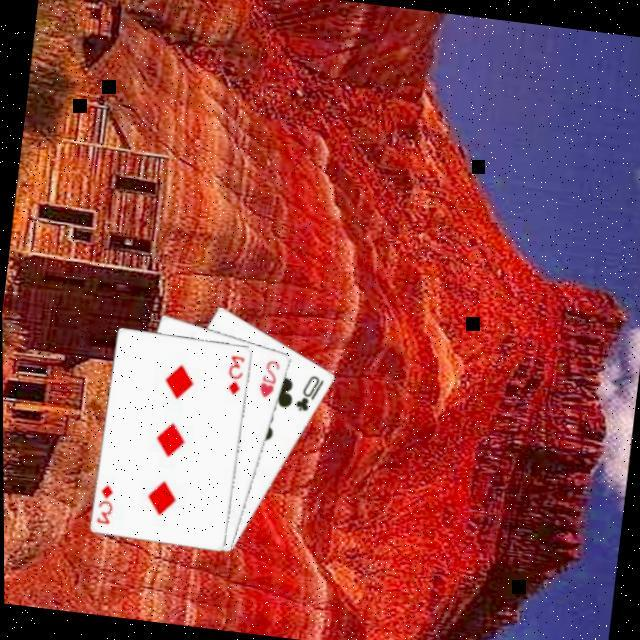10C: (292, 372, 328, 418)
2H: (254, 356, 284, 404)
3D: (222, 352, 248, 400), (92, 482, 118, 528)
